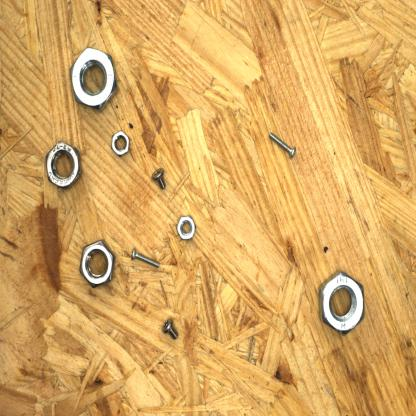screw: (268, 130, 298, 161), (129, 245, 162, 271), (162, 315, 180, 341), (151, 167, 168, 189)
